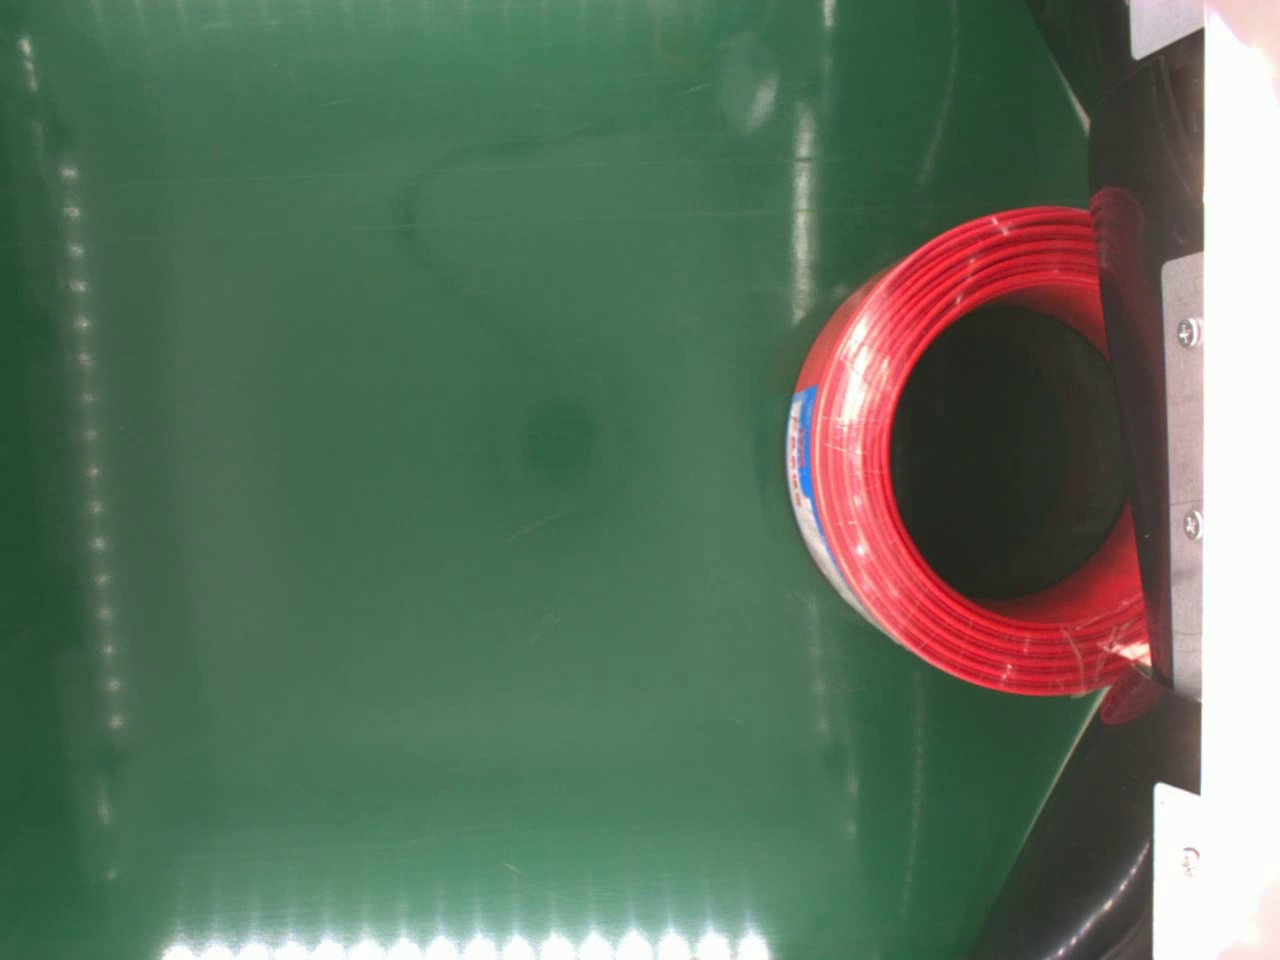red: (786, 204, 1155, 694)
